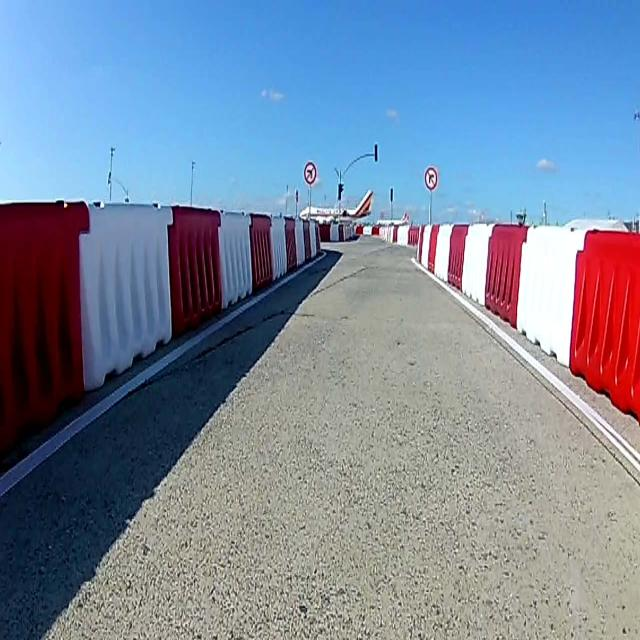sagadonulmez: (424, 164, 438, 192)
soladonulmez: (304, 160, 316, 183)
